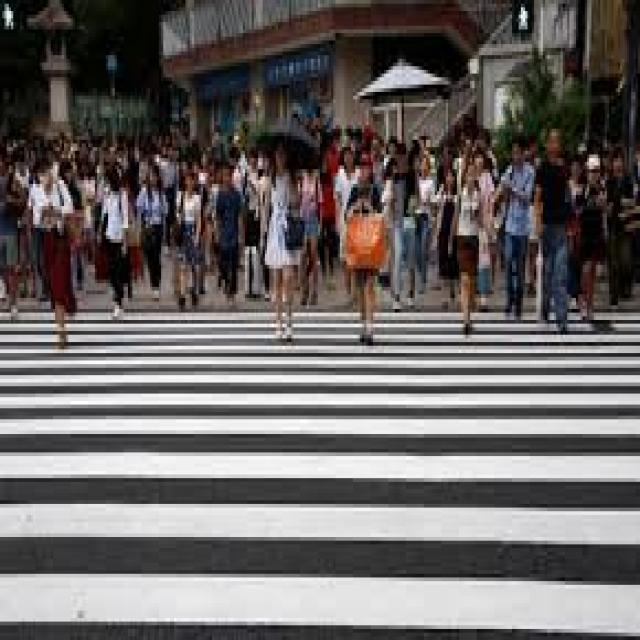Pedestrians: (258, 132, 302, 346), (35, 162, 84, 353), (349, 147, 388, 350), (453, 162, 492, 338), (540, 121, 572, 335)
